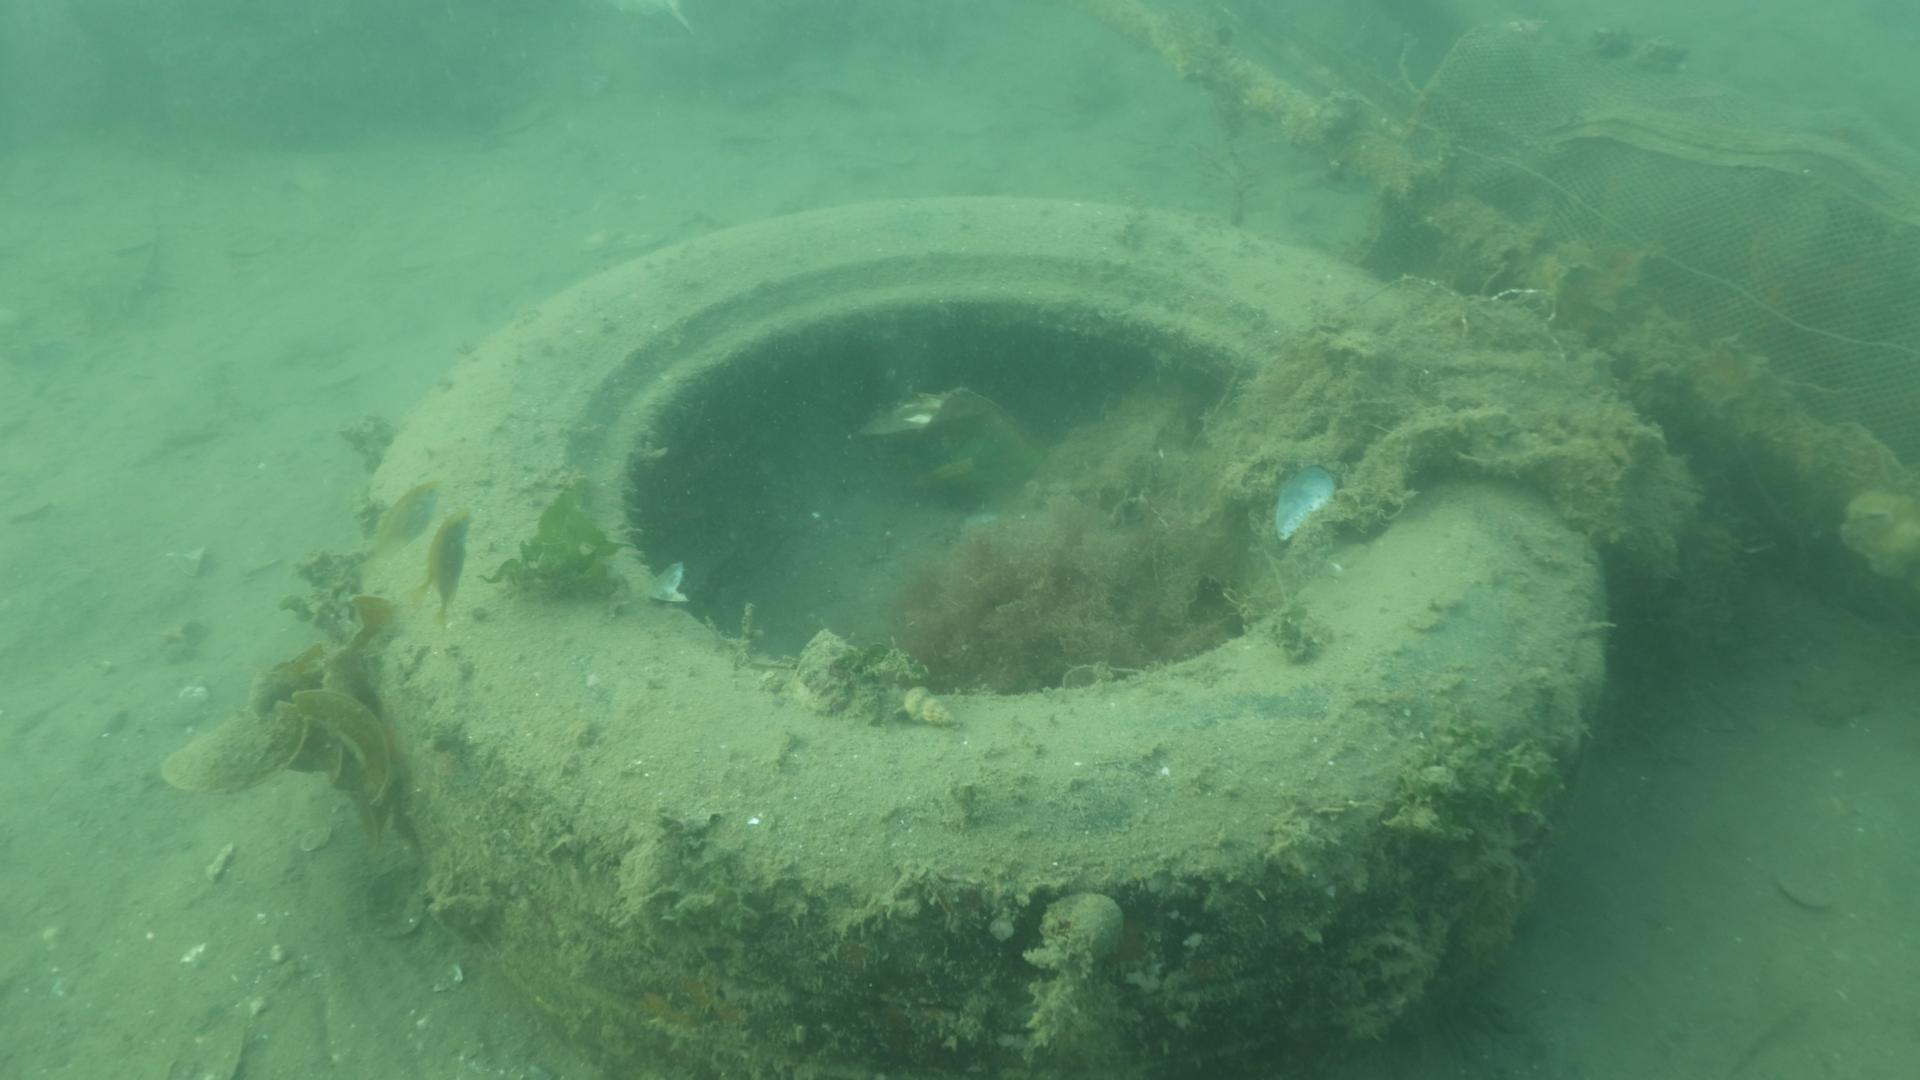spring fish trap: (1394, 17, 1920, 471)
tire: (353, 194, 1610, 1080)
